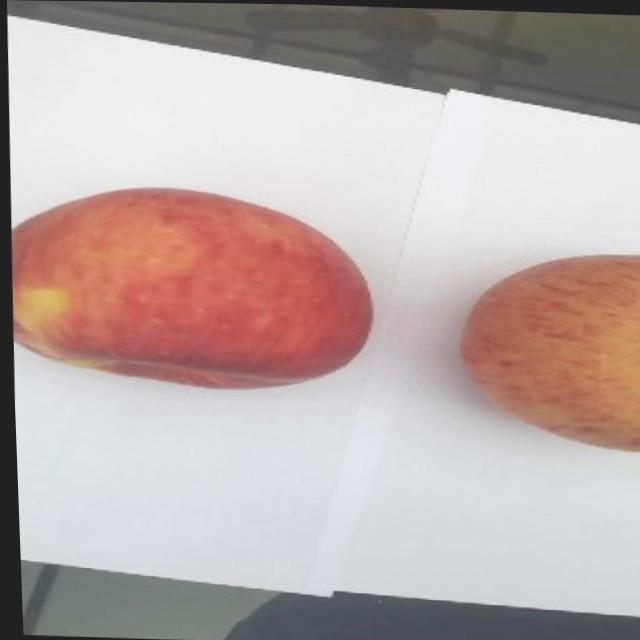Apple: (5, 180, 374, 391), (451, 246, 640, 450)
